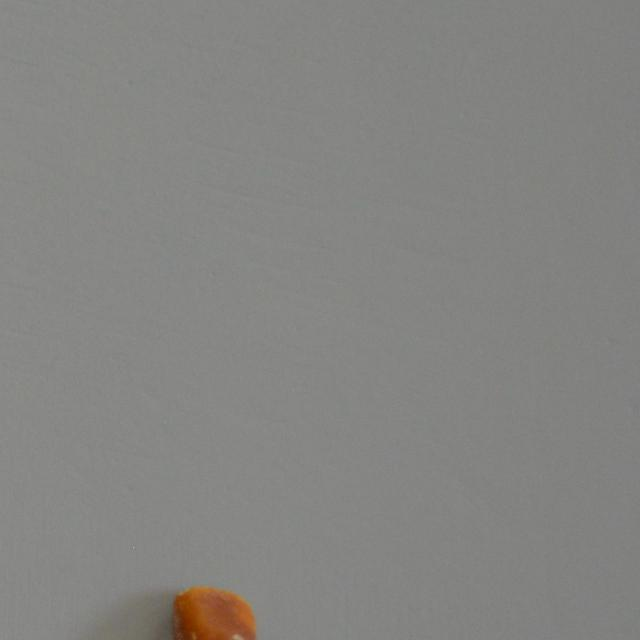dañado: (172, 586, 254, 640)
